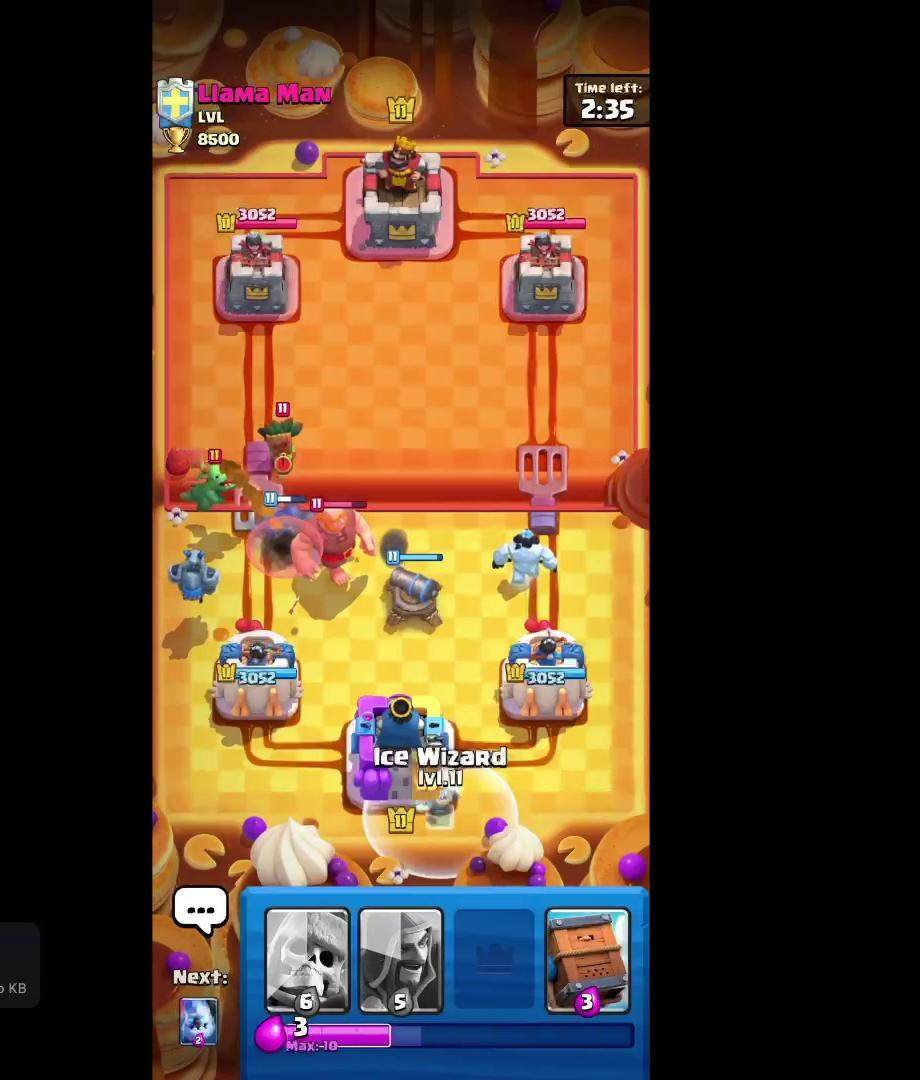Baby Dragon: (179, 452, 244, 514)
Dart Goblin: (246, 396, 310, 478)
Giant: (290, 500, 388, 592)
